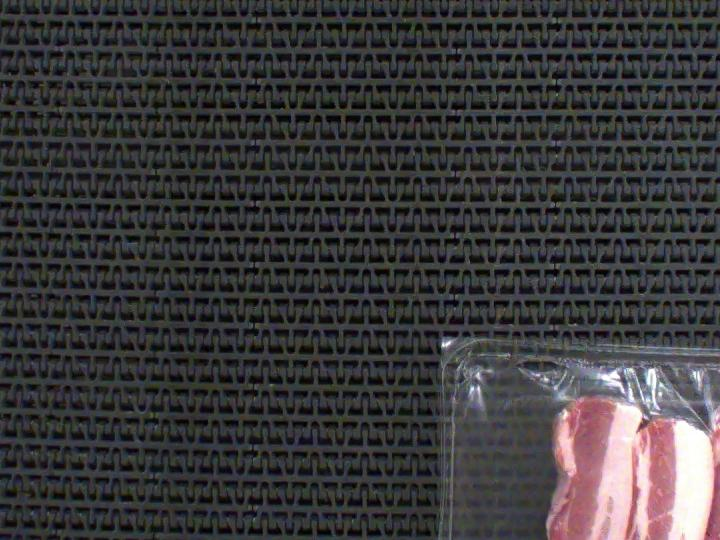unsealed: (462, 355, 720, 540)
